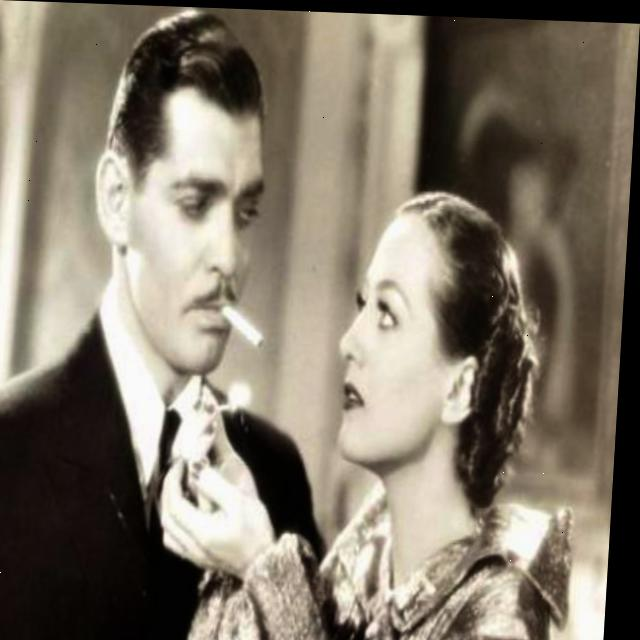cigarette: (224, 305, 270, 350)
